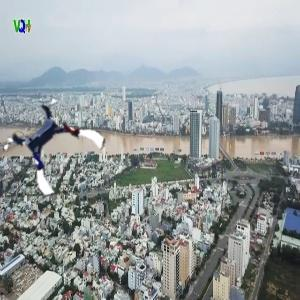drone: (12, 102, 100, 190)
